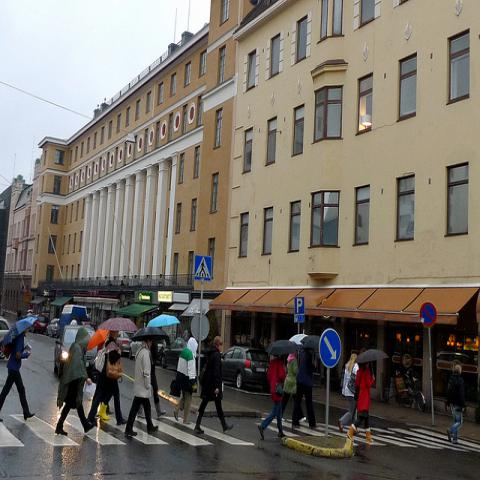car: (53, 324, 97, 381), (221, 346, 270, 392), (161, 337, 207, 371), (0, 318, 12, 359), (116, 332, 136, 356), (28, 315, 50, 335), (436, 351, 469, 363), (45, 320, 60, 338)
